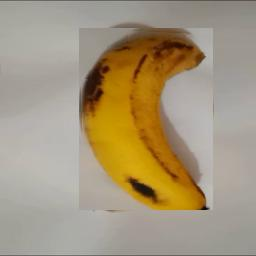Banana Semifresh: (79, 28, 213, 210)
